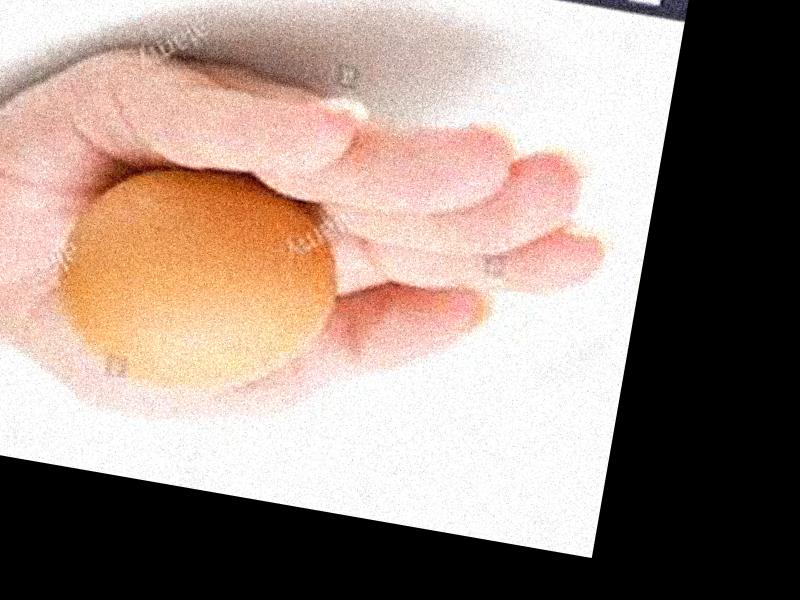Eggs: (41, 151, 350, 416)
